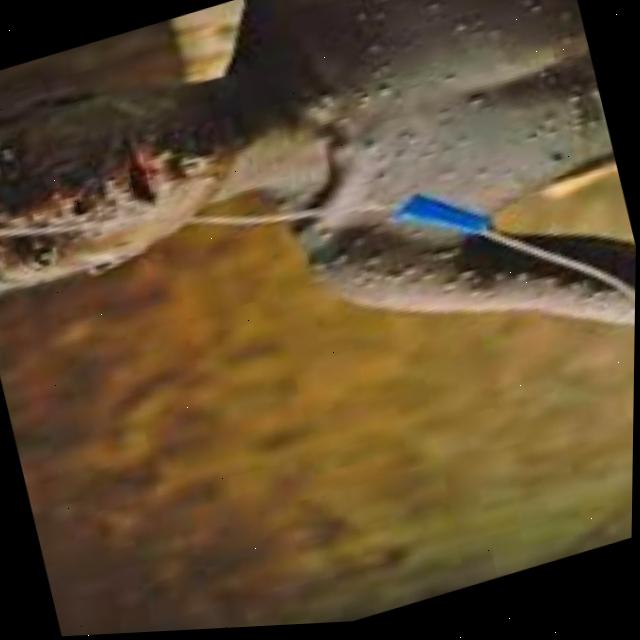Eczema: (68, 0, 632, 364)
